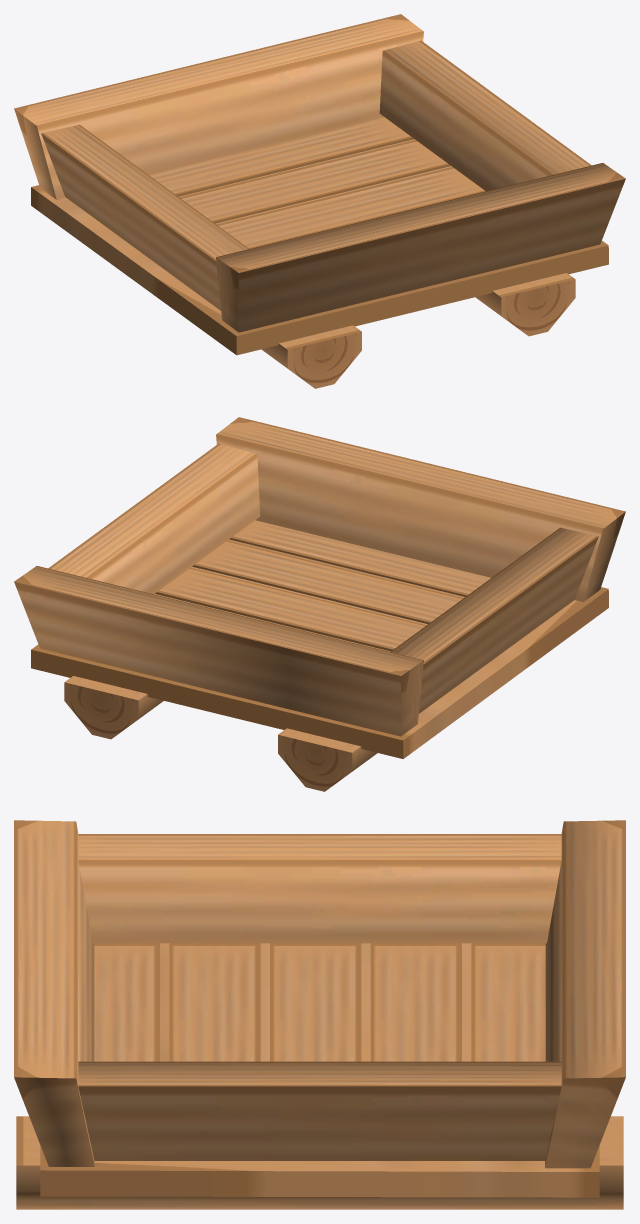
File: ChickenFeederHand.fbx
3 views of the same model, one above another, from view 1: azimuth 30°, elevation 25°; view 2: azimuth 150°, elevation 25°; view 3: azimuth 270°, elevation 25° (orthographic). The views are drawn at different scales.
Visible parts, largest first — view 1: ChickenFeeder; view 2: ChickenFeeder; view 3: ChickenFeeder.
Boxes of the visible parts, x1,y1,x2,y2 form: ChickenFeeder: [14, 14, 625, 388]; ChickenFeeder: [14, 417, 625, 791]; ChickenFeeder: [14, 820, 625, 1209].
Bounding box in the file's own units: 0.9065 × 0.3027 × 0.9121.
